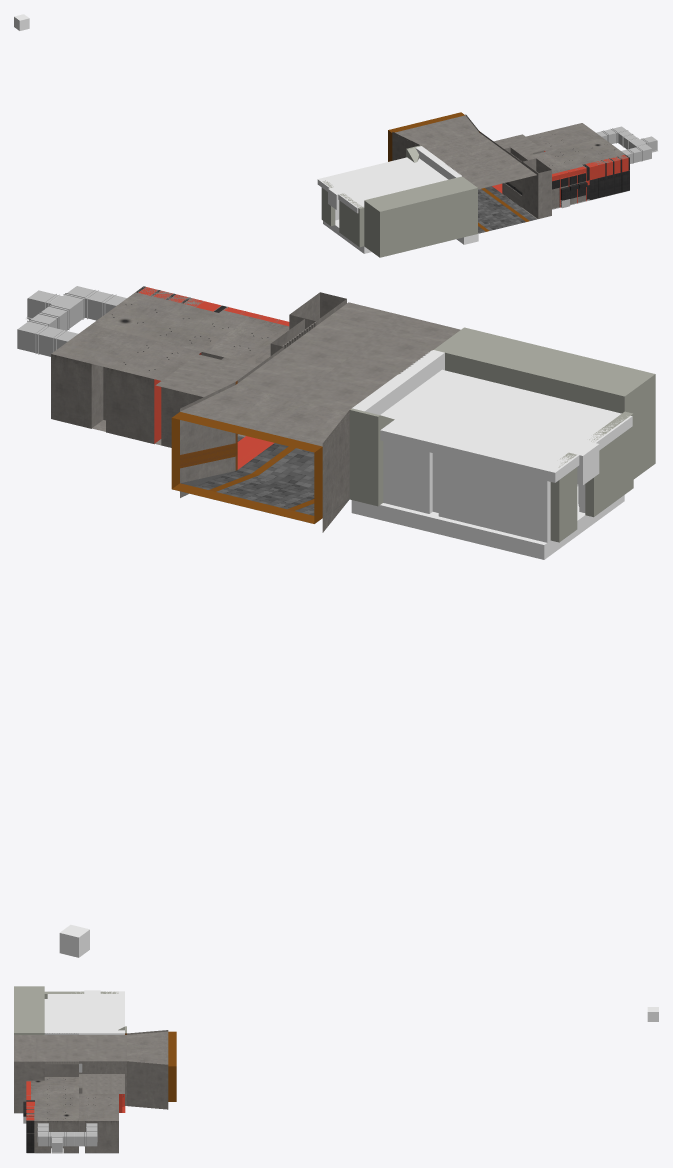
The model's file is Entrance_to_level_1.fbx.
3 views of the same model, one above another, from view 1: azimuth 30°, elevation 25°; view 2: azimuth 150°, elevation 25°; view 3: azimuth 270°, elevation 25° (orthographic). The views are drawn at different scales.
Visible parts, largest first — view 1: Cube.507, Plane.104, Cube.528, Cube.491, Cube.166, Cube.504, Cube.524, Cube.135, Plane.007, Cube.054, Cube.526; view 2: Plane.104, Cube.528, Cube.491, Cube.507, Cube.525, Cube.504, Cube.508, Plane.007, Cube.522, Cube.154, Cube.173, Cube.524 (+8 smaller); view 3: Plane.104, Cube.491, Cube.528, Cube.503, Cube.507, Cube.166, Cube.135, Cube.156, Cube.161, Cube.180, Plane.007, Cube.162.
Boxes of the visible parts, bbox=[...] form: Cube.507: bbox=[364, 176, 477, 257]; Plane.104: bbox=[395, 115, 536, 189]; Cube.528: bbox=[317, 157, 448, 213]; Cube.491: bbox=[524, 123, 628, 173]; Cube.166: bbox=[522, 158, 551, 218]; Cube.504: bbox=[478, 186, 536, 233]; Cube.524: bbox=[339, 193, 364, 247]; Cube.135: bbox=[494, 134, 543, 155]; Plane.007: bbox=[388, 112, 464, 161]; Cube.054: bbox=[392, 132, 420, 160]; Cube.526: bbox=[321, 180, 335, 226]; Plane.104: bbox=[180, 302, 460, 446]; Cube.528: bbox=[380, 369, 632, 482]; Cube.491: bbox=[51, 287, 289, 380]; Cube.507: bbox=[434, 327, 655, 479]; Cube.525: bbox=[438, 439, 550, 542]; Cube.504: bbox=[172, 443, 349, 523]; Cube.508: bbox=[380, 486, 624, 559]; Plane.007: bbox=[171, 412, 322, 523]; Cube.522: bbox=[383, 426, 432, 513]; Cube.154: bbox=[349, 408, 394, 506]; Cube.173: bbox=[106, 367, 154, 443]; Cube.524: bbox=[585, 411, 633, 517]; Plane.104: bbox=[14, 1031, 168, 1064]; Cube.491: bbox=[26, 1077, 118, 1120]; Cube.528: bbox=[47, 991, 124, 1030]; Cube.503: bbox=[127, 1061, 168, 1109]; Cube.507: bbox=[14, 986, 44, 1034]; Cube.166: bbox=[14, 1061, 44, 1112]; Cube.135: bbox=[82, 1074, 124, 1093]; Cube.156: bbox=[85, 1121, 118, 1152]; Cube.161: bbox=[79, 1061, 126, 1105]; Cube.180: bbox=[27, 1121, 78, 1152]; Plane.007: bbox=[168, 1031, 176, 1101]; Cube.162: bbox=[44, 1064, 78, 1076].
Size of the model in its own units: 4551 by 700 by 7827.
